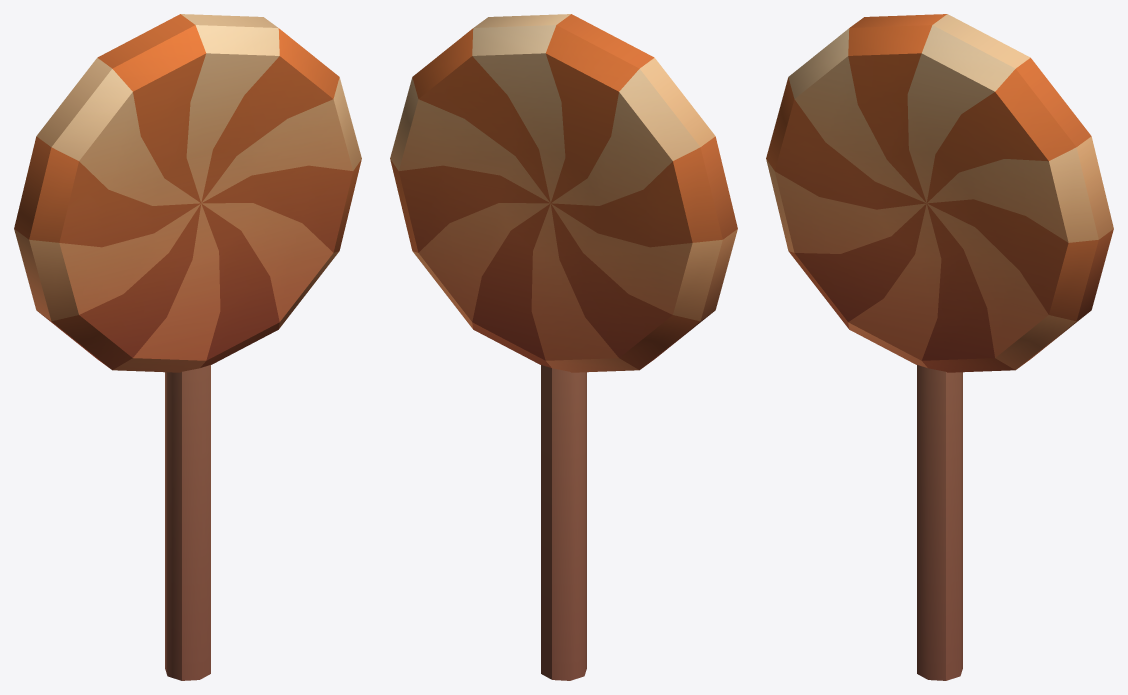
The model's file is lollipop_brown.gltf.
3 renders of one model, left to right at view 1: azimuth 30°, elevation 25°; view 2: azimuth 150°, elevation 25°; view 3: azimuth 330°, elevation 25°, orthographic.
Parts seen in each view (by area): view 1: lollipop_brown; view 2: lollipop_brown; view 3: lollipop_brown.
Part boxes in pixels (left/top/right/bottom): lollipop_brown: left=14, top=14, right=361, bottom=680; lollipop_brown: left=390, top=14, right=737, bottom=680; lollipop_brown: left=766, top=14, right=1113, bottom=680.
Bounding box in the file's own units: 0.65 × 1.23 × 0.1239.
Materials: 1 (1 with a texture image).
